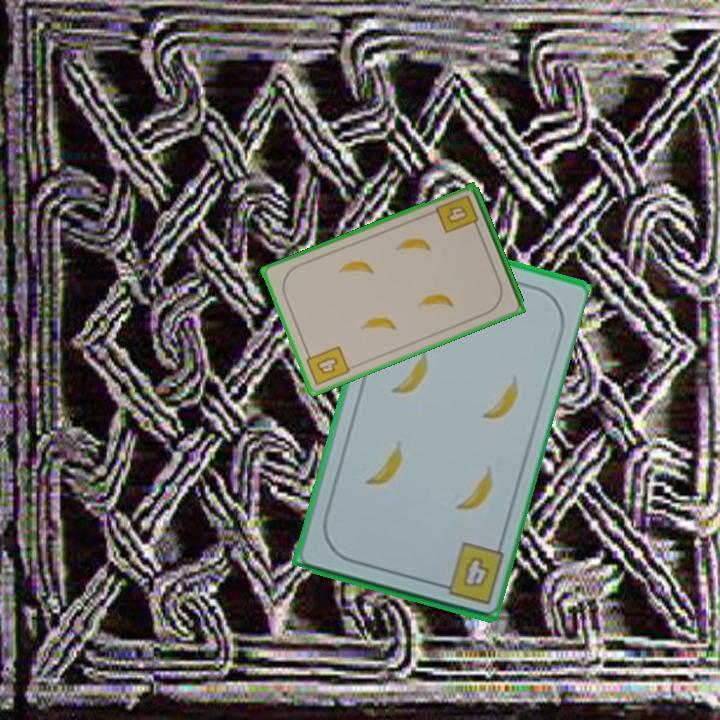4b: (430, 538, 506, 607), (302, 342, 353, 389), (432, 191, 482, 237)
